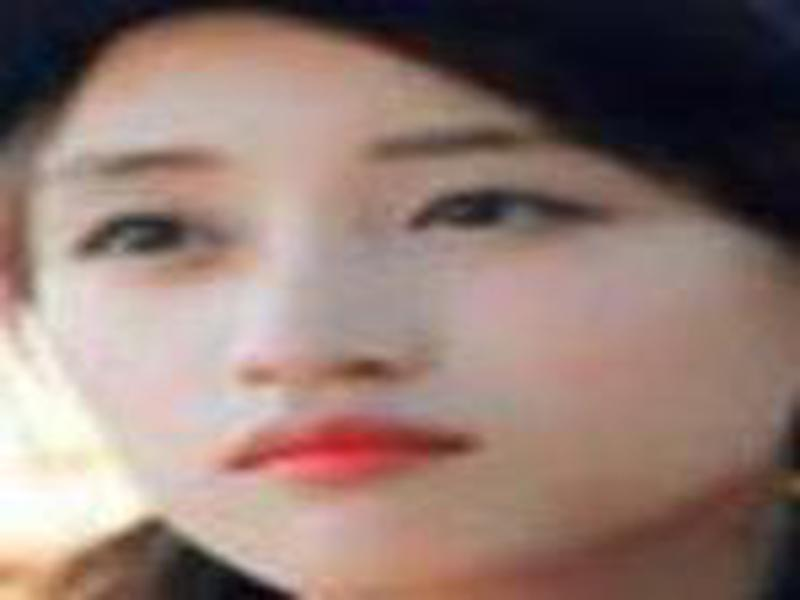without_mask: (29, 44, 789, 600)
